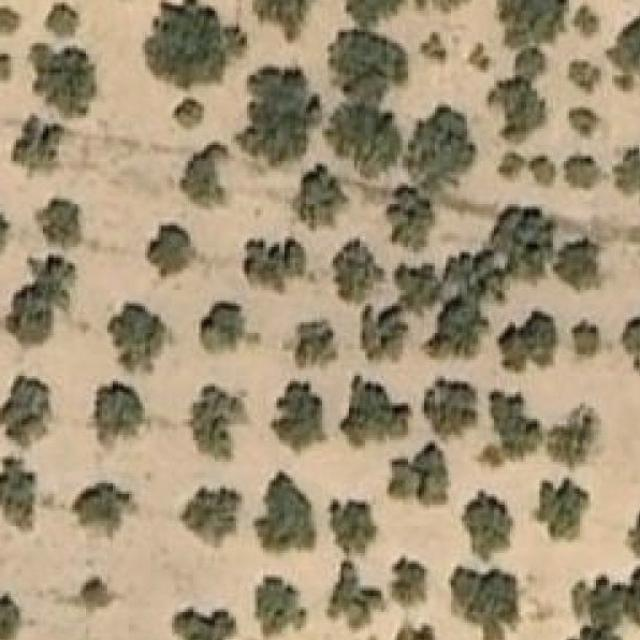Tree: (142, 0, 247, 94), (247, 64, 317, 156), (338, 374, 414, 452), (252, 470, 317, 560), (8, 256, 75, 342), (104, 301, 174, 379), (27, 43, 96, 118), (448, 567, 518, 640), (188, 384, 252, 463), (413, 111, 476, 191), (444, 240, 516, 310), (270, 379, 328, 458), (484, 392, 542, 469), (335, 102, 397, 172), (176, 485, 244, 548), (421, 376, 480, 444), (335, 32, 403, 91), (567, 572, 628, 636), (386, 446, 451, 506), (459, 491, 512, 564), (496, 308, 555, 371), (499, 213, 553, 280), (426, 300, 486, 360), (255, 574, 308, 639), (328, 499, 381, 562), (544, 406, 594, 472), (534, 478, 587, 540), (199, 301, 261, 354), (333, 238, 384, 301), (353, 306, 410, 362), (0, 373, 49, 438), (94, 379, 147, 436), (496, 80, 548, 138), (247, 0, 317, 43), (13, 112, 64, 170), (282, 319, 338, 370), (505, 0, 564, 48), (392, 252, 446, 303), (246, 245, 303, 293), (386, 185, 432, 242), (332, 580, 378, 637), (607, 14, 640, 89), (34, 197, 80, 250), (386, 555, 432, 606), (182, 145, 225, 199), (145, 223, 188, 277), (0, 458, 36, 520), (75, 483, 129, 524), (303, 169, 346, 220), (174, 606, 237, 640), (555, 242, 596, 290), (73, 569, 115, 615), (0, 593, 38, 640), (420, 27, 456, 65), (621, 302, 640, 370), (564, 156, 604, 186), (45, 3, 77, 39), (566, 108, 601, 140), (343, 0, 400, 19), (396, 617, 442, 640), (566, 62, 598, 94), (464, 43, 496, 73), (174, 100, 204, 132), (571, 5, 598, 40), (625, 505, 640, 558), (628, 564, 640, 630), (0, 5, 24, 36), (413, 0, 478, 11), (571, 326, 598, 352), (531, 156, 555, 182), (574, 628, 623, 640), (628, 148, 640, 197), (0, 186, 9, 250), (0, 54, 14, 86)
